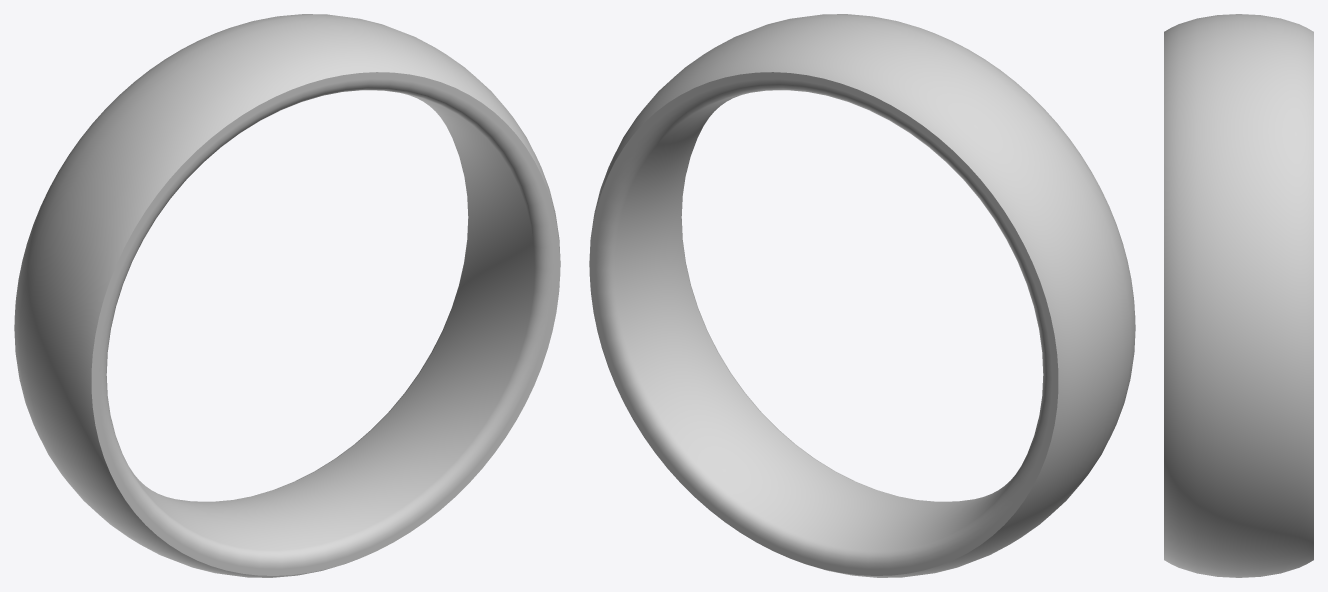
File: Bombe W65 T22 S105.glb
3 renders of one model, left to right at view 1: azimuth 30°, elevation 25°; view 2: azimuth 150°, elevation 25°; view 3: azimuth 270°, elevation 25°, orthographic. The views are drawn at different scales.
Parts seen in each view (by area): view 1: Default(95220686-B28B-4C72-815A-5E47861754B8), Default(79839197-2913-4D6D-A9BF-245B89BC401B); view 2: Default(95220686-B28B-4C72-815A-5E47861754B8), Default(79839197-2913-4D6D-A9BF-245B89BC401B); view 3: Default(79839197-2913-4D6D-A9BF-245B89BC401B).
Boxes of the visible parts, bbox=[...] form: Default(95220686-B28B-4C72-815A-5E47861754B8): bbox=[91, 72, 560, 575]; Default(79839197-2913-4D6D-A9BF-245B89BC401B): bbox=[14, 14, 560, 577]; Default(95220686-B28B-4C72-815A-5E47861754B8): bbox=[589, 72, 1058, 575]; Default(79839197-2913-4D6D-A9BF-245B89BC401B): bbox=[589, 14, 1135, 577]; Default(79839197-2913-4D6D-A9BF-245B89BC401B): bbox=[1164, 14, 1313, 577].
Bounding box in the file's own units: 0.0245 × 0.0245 × 0.0065.
Materials: 2 (2 with a texture image).
